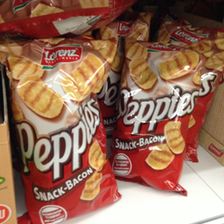chips: (3, 39, 120, 224), (115, 38, 224, 196)
